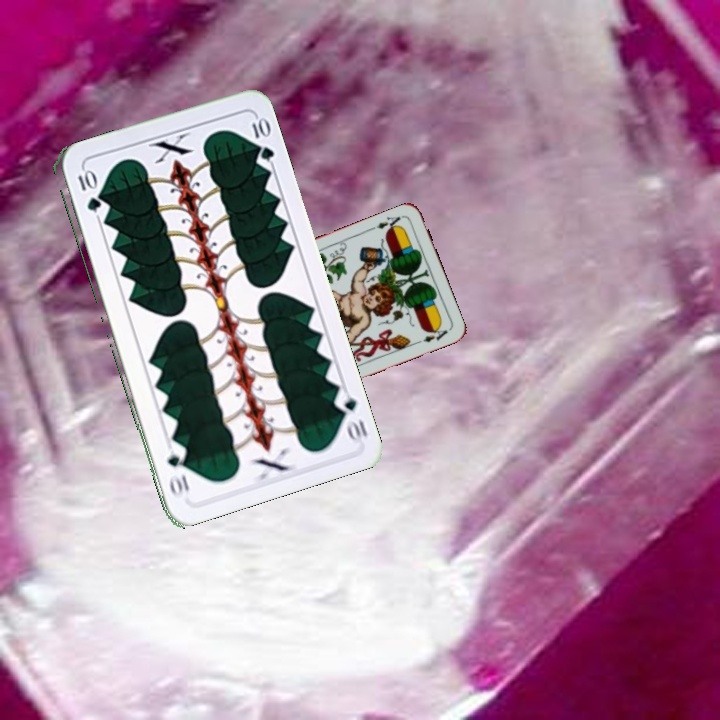EA: (372, 212, 404, 235)
G10: (330, 385, 370, 445), (73, 166, 101, 215)
